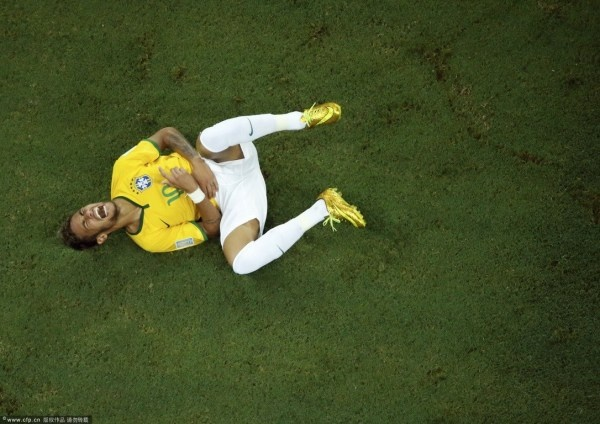falling: (47, 88, 374, 281)
